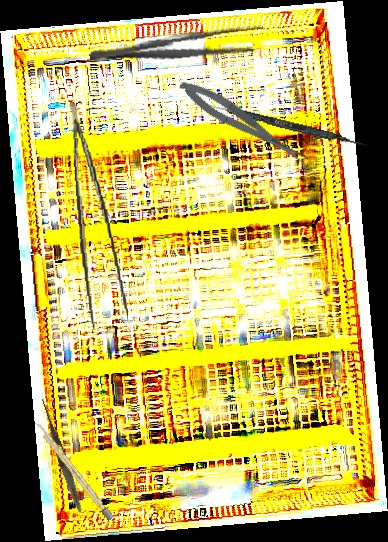Dressing Forceps: (87, 21, 267, 72), (36, 396, 86, 514)
Micro Scissor: (175, 72, 312, 174)
Scalpel Handle: (32, 419, 115, 522)
Spatula Surgical: (196, 99, 370, 149)
Tissue Forceps: (69, 98, 130, 335)
